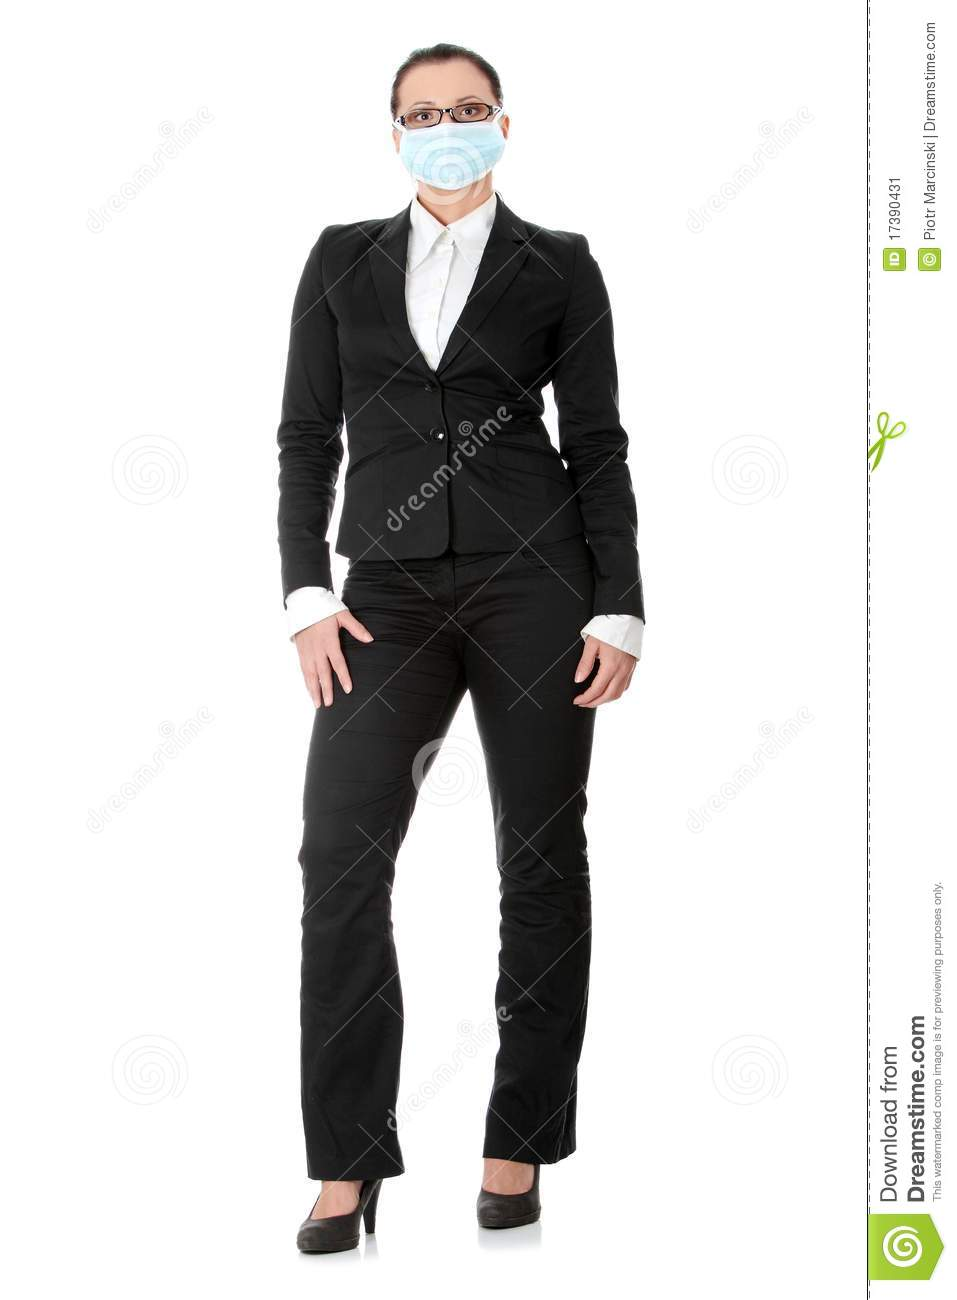mask: (400, 122, 504, 191)
